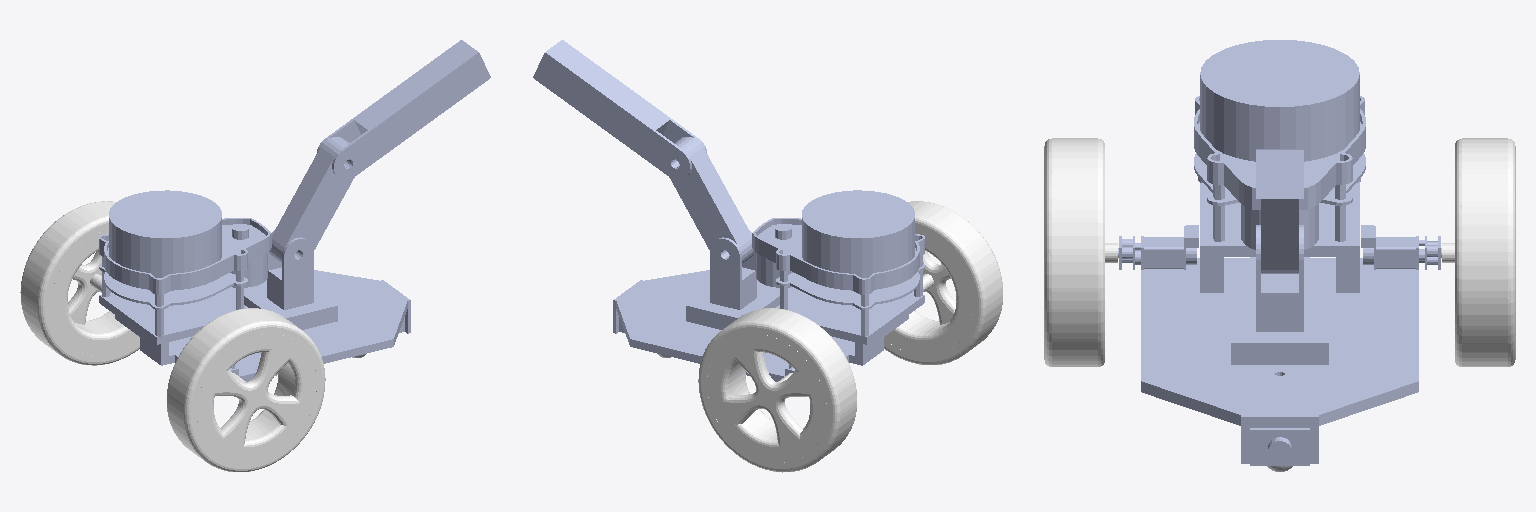
The robot description file, URDF, robot "robot":
<?xml version="1.0" encoding="utf-8"?>
<!-- This URDF was automatically created by SolidWorks to URDF Exporter! Originally created by [author] ([email redacted]) 
     Commit Version: 1.6.0-4-g7f85cfe  Build Version: 1.6.7995.38578
     For more information, please see http://wiki.ros.org/sw_urdf_exporter -->
<robot
  name="robot">
  <link
    name="base_link">
    <inertial>
      <origin
        xyz="0.00200301139118102 3.81639164714898E-17 0.00576779829851589"
        rpy="0 0 0" />
      <mass
        value="0.152518819490836" />
      <inertia
        ixx="0.000111199226000329"
        ixy="-3.65655549959758E-09"
        ixz="4.72187658533401E-05"
        iyy="0.000352133185879361"
        iyz="1.05449157054301E-18"
        izz="0.000430117937766742" />
    </inertial>
    <visual>
      <origin
        xyz="0 0 0"
        rpy="0 0 0" />
      <geometry>
        <mesh
          filename="package://robot/meshes/base_link.STL" />
      </geometry>
      <material
        name="">
        <color
          rgba="0.792156862745098 0.819607843137255 0.933333333333333 1" />
      </material>
    </visual>
    <collision>
      <origin
        xyz="0 0 0"
        rpy="0 0 0" />
      <geometry>
        <mesh
          filename="package://robot/meshes/base_link.STL" />
      </geometry>
    </collision>
  </link>
  <link
    name="camera_link">
    <inertial>
      <origin
        xyz="-0.00415409059962961 -2.77555756156289E-17 1.04083408558608E-17"
        rpy="0 0 0" />
      <mass
        value="0.00111415926535898" />
      <inertia
        ixx="6.26603241503206E-08"
        ixy="2.91980858482839E-22"
        ixz="-6.05431811497978E-23"
        iyy="2.17458903231946E-08"
        iyz="-1.08992917400019E-23"
        izz="4.63458903231946E-08" />
    </inertial>
    <visual>
      <origin
        xyz="0 0 0"
        rpy="0 0 0" />
      <geometry>
        <mesh
          filename="package://robot/meshes/camera_link.STL" />
      </geometry>
      <material
        name="">
        <color
          rgba="0.792156862745098 0.819607843137255 0.933333333333333 1" />
      </material>
    </visual>
    <collision>
      <origin
        xyz="0 0 0"
        rpy="0 0 0" />
      <geometry>
        <mesh
          filename="package://robot/meshes/camera_link.STL" />
      </geometry>
    </collision>
  </link>
  <joint
    name="point_link"
    type="fixed">
    <origin
      xyz="0.095823705864318 0 -0.00800000000000014"
      rpy="0 0 0" />
    <parent
      link="base_link" />
    <child
      link="camera_link" />
    <axis
      xyz="0 0 0" />
  </joint>
  <link
    name="lidar_link">
    <inertial>
      <origin
        xyz="0.00829409957033966 -2.98372437868011E-16 -0.021298857777209"
        rpy="0 0 0" />
      <mass
        value="0.146695752131392" />
      <inertia
        ixx="6.22721120792818E-05"
        ixy="2.68726251521932E-19"
        ixz="1.88658076337422E-05"
        iyy="0.000109673997590948"
        iyz="2.28400807116625E-19"
        izz="0.000125682524275729" />
    </inertial>
    <visual>
      <origin
        xyz="0 0 0"
        rpy="0 0 0" />
      <geometry>
        <mesh
          filename="package://robot/meshes/lidar_link.STL" />
      </geometry>
      <material
        name="">
        <color
          rgba="0.792156862745098 0.819607843137255 0.933333333333333 1" />
      </material>
    </visual>
    <collision>
      <origin
        xyz="0 0 0"
        rpy="0 0 0" />
      <geometry>
        <mesh
          filename="package://robot/meshes/lidar_link.STL" />
      </geometry>
    </collision>
  </link>
  <joint
    name="lidar_point"
    type="fixed">
    <origin
      xyz="-0.0641762941356823 0 0.089"
      rpy="0 0 0" />
    <parent
      link="base_link" />
    <child
      link="lidar_link" />
    <axis
      xyz="0 0 0" />
  </joint>
  <link
    name="right_wheel_link">
    <inertial>
      <origin
        xyz="0 -0.0181130010405281 1.38777878078145E-16"
        rpy="0 0 0" />
      <mass
        value="0.122546469530451" />
      <inertia
        ixx="9.09821453061831E-05"
        ixy="-1.30951480835058E-20"
        ixz="-1.91366016908214E-11"
        iyy="0.000169170694291558"
        iyz="-5.47682033261032E-19"
        izz="9.0982757827762E-05" />
    </inertial>
    <visual>
      <origin
        xyz="0 0 0"
        rpy="0 0 0" />
      <geometry>
        <mesh
          filename="package://robot/meshes/right_wheel_link.STL" />
      </geometry>
      <material
        name="">
        <color
          rgba="1 1 1 1" />
      </material>
    </visual>
    <collision>
      <origin
        xyz="0 0 0"
        rpy="0 0 0" />
      <geometry>
        <mesh
          filename="package://robot/meshes/right_wheel_link.STL" />
      </geometry>
    </collision>
  </link>
  <joint
    name="right_wheel_joint"
    type="continuous">
    <origin
      xyz="-0.059176294135682 -0.0667000000000001 0.0100000000000009"
      rpy="0 0 0" />
    <parent
      link="base_link" />
    <child
      link="right_wheel_link" />
    <axis
      xyz="0 -1 0" />
  </joint>
  <link
    name="left_wheel_link">
    <inertial>
      <origin
        xyz="0 0.0181130010405281 -1.31838984174237E-16"
        rpy="0 0 0" />
      <mass
        value="0.122546469530451" />
      <inertia
        ixx="9.09820861347087E-05"
        ixy="-2.57170069843222E-11"
        ixz="-3.68887133947781E-10"
        iyy="0.000169170347422251"
        iyz="7.88234425648419E-11"
        izz="9.09824348892539E-05" />
    </inertial>
    <visual>
      <origin
        xyz="0 0 0"
        rpy="0 0 0" />
      <geometry>
        <mesh
          filename="package://robot/meshes/left_wheel_link.STL" />
      </geometry>
      <material
        name="">
        <color
          rgba="1 1 1 1" />
      </material>
    </visual>
    <collision>
      <origin
        xyz="0 0 0"
        rpy="0 0 0" />
      <geometry>
        <mesh
          filename="package://robot/meshes/left_wheel_link.STL" />
      </geometry>
    </collision>
  </link>
  <joint
    name="left_wheel_joint"
    type="continuous">
    <origin
      xyz="-0.0591762941356821 0.0666999999999998 0.01"
      rpy="0 0 0" />
    <parent
      link="base_link" />
    <child
      link="left_wheel_link" />
    <axis
      xyz="0 1 0" />
  </joint>
  <link
    name="base_arm_link">
    <inertial>
      <origin
        xyz="1.38777878078145E-17 -3.46944695195361E-18 0.0137618491449772"
        rpy="0 0 0" />
      <mass
        value="0.00971522119518873" />
      <inertia
        ixx="1.39615302505198E-06"
        ixy="3.25621905174643E-22"
        ixz="-4.67985955422911E-22"
        iyy="1.31210186210631E-06"
        iyz="-9.10828179622465E-22"
        izz="7.28291484805025E-07" />
    </inertial>
    <visual>
      <origin
        xyz="0 0 0"
        rpy="0 0 0" />
      <geometry>
        <mesh
          filename="package://robot/meshes/base_arm_link.STL" />
      </geometry>
      <material
        name="">
        <color
          rgba="0.792156862745098 0.819607843137255 0.933333333333333 1" />
      </material>
    </visual>
    <collision>
      <origin
        xyz="0 0 0"
        rpy="0 0 0" />
      <geometry>
        <mesh
          filename="package://robot/meshes/base_arm_link.STL" />
      </geometry>
    </collision>
  </link>
  <joint
    name="base_arm_joint"
    type="fixed">
    <origin
      xyz="0.0188237058643178 0 0.0129999999999997"
      rpy="0 0 0" />
    <parent
      link="base_link" />
    <child
      link="base_arm_link" />
    <axis
      xyz="0 0 0" />
  </joint>
  <link
    name="arm1_link">
    <inertial>
      <origin
        xyz="0.0165826461994161 1.90819582357449E-16 0.0250003168984913"
        rpy="0 0 0" />
      <mass
        value="0.0233217695615098" />
      <inertia
        ixx="8.28188744374599E-06"
        ixy="-3.37101714511941E-20"
        ixz="-4.65683117882104E-06"
        iyy="1.1636848513567E-05"
        iyz="-5.28724630506043E-20"
        izz="4.35002323777872E-06" />
    </inertial>
    <visual>
      <origin
        xyz="0 0 0"
        rpy="0 0 0" />
      <geometry>
        <mesh
          filename="package://robot/meshes/arm1_link.STL" />
      </geometry>
      <material
        name="">
        <color
          rgba="0.792156862745098 0.819607843137255 0.933333333333333 1" />
      </material>
    </visual>
    <collision>
      <origin
        xyz="0 0 0"
        rpy="0 0 0" />
      <geometry>
        <mesh
          filename="package://robot/meshes/arm1_link.STL" />
      </geometry>
    </collision>
  </link>
  <joint
    name="arm1_joint"
    type="revolute">
    <origin
      xyz="0 0 0.0350000000000003"
      rpy="0 0 0" />
    <parent
      link="base_arm_link" />
    <child
      link="arm1_link" />
    <axis
      xyz="0 -1 0" />
     <limit lower="-1.57" upper="1.57" effort="100" velocity="1.0" />
  </joint>
  <link
    name="arm2_link">
    <inertial>
      <origin
        xyz="0.0514776552170162 1.76386683037322E-14 0.0236984980916196"
        rpy="0 0 0" />
      <mass
        value="0.0341152211951887" />
      <inertia
        ixx="6.18582017638094E-06"
        ixy="-6.41162109524765E-20"
        ixz="-8.27965648977309E-06"
        iyy="2.40675611613878E-05"
        iyz="-2.89764249239944E-20"
        izz="2.03591502994242E-05" />
    </inertial>
    <visual>
      <origin
        xyz="0 0 0"
        rpy="0 0 0" />
      <geometry>
        <mesh
          filename="package://robot/meshes/arm2_link.STL" />
      </geometry>
      <material
        name="">
        <color
          rgba="0.792156862745098 0.819607843137255 0.933333333333333 1" />
      </material>
    </visual>
    <collision>
      <origin
        xyz="0 0 0"
        rpy="0 0 0" />
      <geometry>
        <mesh
          filename="package://robot/meshes/arm2_link.STL" />
      </geometry>
    </collision>
  </link>
  <joint
    name="arm2_joint"
    type="revolute">
    <origin
      xyz="0.0331652923988349 0 0.0500006337969741"
      rpy="0 0 0" />
    <parent
      link="arm1_link" />
    <child
      link="arm2_link" />
    <axis
      xyz="0 -1 0" />
      <limit lower="-1.57" upper="1.57" effort="100" velocity="1.0" />
  </joint>
  <link
    name="front_link">
    <inertial>
      <origin
        xyz="1.38777878078145E-17 0 -1.73472347597681E-18"
        rpy="0 0 0" />
      <mass
        value="0.00143675504024173" />
      <inertia
        ixx="2.81603987887379E-08"
        ixy="-1.41363874215605E-24"
        ixz="2.52435489670724E-25"
        iyy="2.81603987887379E-08"
        iyz="2.01948391736579E-25"
        izz="2.81603987887379E-08" />
    </inertial>
    <visual>
      <origin
        xyz="0 0 0"
        rpy="0 0 0" />
      <geometry>
        <mesh
          filename="package://robot/meshes/front_link.STL" />
      </geometry>
      <material
        name="">
        <color
          rgba="0.898039215686275 0.92156862745098 0.929411764705882 1" />
      </material>
    </visual>
    <collision>
      <origin
        xyz="0 0 0"
        rpy="0 0 0" />
      <geometry>
        <mesh
          filename="package://robot/meshes/front_link.STL" />
      </geometry>
    </collision>
  </link>
  <joint
    name="front_joint"
    type="fixed">
    <origin
      xyz="0.0633237058643178 0 -0.0246000000000001"
      rpy="0 0 0" />
    <parent
      link="base_link" />
    <child
      link="front_link" />
    <axis
      xyz="0 0 0" />
  </joint>



  <!-- transmission -->
<transmission name="arm1_transmission">
    <type>transmission_interface/SimpleTransmission</type>
    <joint name="arm1_joint">
        <hardwareInterface>hardware_interface/PositionJointInterface</hardwareInterface>
    </joint>
    <actuator name="arm1_actuator">
        <mechanicalReduction>1.0</mechanicalReduction>
    </actuator>
</transmission>

<transmission name="arm2_transmission">
    <type>transmission_interface/SimpleTransmission</type>
    <joint name="arm2_joint">
        <hardwareInterface>hardware_interface/PositionJointInterface</hardwareInterface>
    </joint>
    <actuator name="arm2_actuator">
        <mechanicalReduction>1.0</mechanicalReduction>
    </actuator>
</transmission>

<!-- lidar -->
 <gazebo reference="lidar_link">
    <sensor type="ray" name="lidar_sensor">
      <pose>0 0 0 0 0 0</pose>
      <visualize>true</visualize>
      <update_rate>30</update_rate>
      <ray>
        <scan>
          <horizontal>
            <samples>720</samples>
            <resolution>1</resolution>
            <min_angle>-1.5708</min_angle>
            <max_angle>1.5708</max_angle>
          </horizontal>
        </scan>
        <range>
          <min>0.1</min>
          <max>30.0</max>
          <resolution>0.01</resolution>
        </range>
        <noise>
          <type>gaussian</type>
          <mean>0.0</mean>
          <stddev>0.01</stddev>
        </noise>
      </ray>
      <plugin name="gazebo_ros_laser" filename="libgazebo_ros_laser.so">
        <topicName>/scan</topicName>
        <frameName>lidar_link</frameName>
      </plugin>
    </sensor>
  </gazebo>

  <!-- camera -->
  <gazebo reference="camera_link">
    <sensor type="camera" name="camera1">
      <update_rate>30.0</update_rate>
      <camera name="head">
        <horizontal_fov>1.3962634</horizontal_fov>
        <image>
          <width>800</width>
          <height>800</height>
          <format>R8G8B8</format>
        </image>
        <clip>
          <near>0.02</near>
          <far>300</far>
        </clip>
        <noise>
          <type>gaussian</type>
          <mean>0.0</mean>
          <stddev>0.007</stddev>
        </noise>
      </camera>
      <plugin name="camera_controller" filename="libgazebo_ros_camera.so">
        <alwaysOn>true</alwaysOn>
        <updateRate>0.0</updateRate>
        <cameraName>rrbot/camera1</cameraName>
        <imageTopicName>image_raw</imageTopicName>
        <cameraInfoTopicName>camera_info</cameraInfoTopicName>
        <frameName>camera_link</frameName>
        <hackBaseline>0.07</hackBaseline>
        <distortionK1>0.0</distortionK1>
        <distortionK2>0.0</distortionK2>
        <distortionK3>0.0</distortionK3>
        <distortionT1>0.0</distortionT1>
        <distortionT2>0.0</distortionT2>
      </plugin>
    </sensor>
  </gazebo>

<!-- wheel -->
<gazebo>
  <plugin name="differential_drive_controller" filename="libgazebo_ros_diff_drive.so">
    <updateRate>10</updateRate>
    <leftJoint>left_wheel_joint</leftJoint>
    <rightJoint>right_wheel_joint</rightJoint>
    <wheelSeparation>0.1334</wheelSeparation> 
    <wheelDiameter>0.2410</wheelDiameter>
    <wheelAcceleration>1.0</wheelAcceleration>
    <wheelTorque>20</wheelTorque>
    <commandTopic>cmd_vel</commandTopic>
    <odometryTopic>odom</odometryTopic>
    <odometryFrame>odom</odometryFrame>
    <robotBaseFrame>base_link</robotBaseFrame>
    <odometrySource>1</odometrySource>
    <publishWheelTF>false</publishWheelTF>
    <publishOdom>true</publishOdom>
    <publishWheelJointState>true</publishWheelJointState>
    <legacyMode>false</legacyMode>
    <rosDebugLevel>Debug</rosDebugLevel>
  </plugin>
</gazebo>

<!-- control -->
<gazebo>
  <plugin name="gazebo_ros_control" filename="libgazebo_ros_control.so">
    <robotNamespace>/</robotNamespace>
  </plugin>
</gazebo>


</robot>

--- Facts derived from the render (not from the file) ---
The picture shows the robot from 3 angles, left to right: view 1: azimuth 30°, elevation 25°; view 2: azimuth 150°, elevation 25°; view 3: azimuth 270°, elevation 25°; orthographic projection.
Model robot with 9 links and 8 joints (2 revolute, 2 continuous, 4 fixed), rooted at base_link, posed all joints at 0.
Visible links, largest first — view 1: right_wheel_link, lidar_link, base_link, left_wheel_link, arm2_link, arm1_link, base_arm_link; view 2: left_wheel_link, lidar_link, base_link, right_wheel_link, arm2_link, arm1_link, base_arm_link; view 3: base_link, lidar_link, right_wheel_link, left_wheel_link, base_arm_link, arm1_link, arm2_link, camera_link.
Boxes of the visible links, box(x1,y1,x2,y2) form: right_wheel_link: box(167, 308, 325, 471); lidar_link: box(99, 190, 271, 336); base_link: box(99, 270, 410, 381); left_wheel_link: box(20, 201, 139, 365); arm2_link: box(317, 40, 490, 179); arm1_link: box(269, 137, 354, 262); base_arm_link: box(267, 230, 313, 309); left_wheel_link: box(698, 308, 856, 472); lidar_link: box(752, 190, 924, 336); base_link: box(613, 270, 924, 381); right_wheel_link: box(884, 201, 1002, 364); arm2_link: box(533, 40, 706, 179); arm1_link: box(669, 137, 754, 262); base_arm_link: box(710, 230, 756, 309); base_link: box(1118, 182, 1441, 463); lidar_link: box(1194, 40, 1365, 249); right_wheel_link: box(1044, 138, 1117, 366); left_wheel_link: box(1442, 138, 1515, 366); base_arm_link: box(1256, 225, 1303, 331); arm1_link: box(1261, 199, 1298, 273); arm2_link: box(1256, 149, 1303, 198); camera_link: box(1250, 428, 1309, 465).
Bounding box of the posed robot: 0.2532 × 0.1934 × 0.1859 m (x, y, z).
9 mesh visuals loaded from 9 distinct referenced files (9 binary STL).
